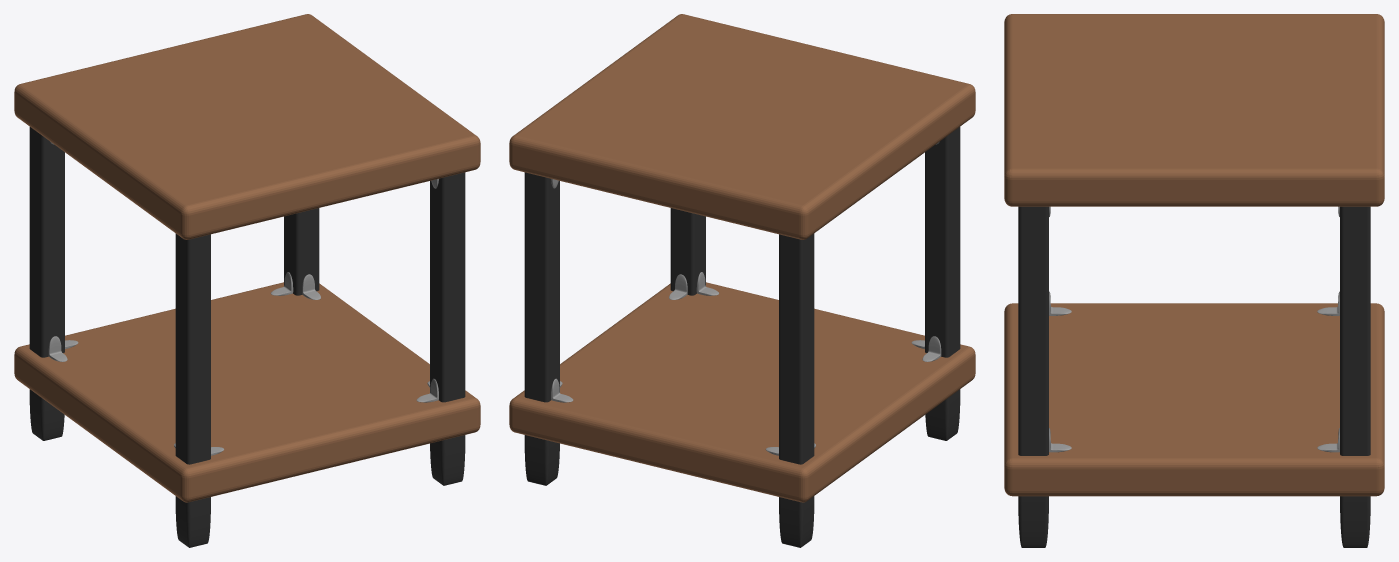
The model's file is compressed_BedsideTable.glb.
3 views of the same model, side by side, from view 1: azimuth 30°, elevation 25°; view 2: azimuth 150°, elevation 25°; view 3: azimuth 270°, elevation 25° (orthographic). The views are drawn at different scales.
Parts seen in each view (by area): view 1: Cube.001, Cube.003, Cube.002, Cube.006, Cube.004; view 2: Cube.001, Cube.003, Cube.002, Cube.006, Cube.004; view 3: Cube.001, Cube.003, Cube.002, Cube.004.
Part boxes in pixels (x1=…): Cube.001: x1=14, y1=14, x2=480, y2=239; Cube.003: x1=14, y1=282, x2=480, y2=502; Cube.002: x1=29, y1=127, x2=465, y2=547; Cube.006: x1=65, y1=272, x2=438, y2=455; Cube.004: x1=48, y1=274, x2=429, y2=448; Cube.001: x1=509, y1=14, x2=975, y2=239; Cube.003: x1=509, y1=282, x2=975, y2=502; Cube.002: x1=524, y1=127, x2=960, y2=547; Cube.006: x1=551, y1=272, x2=924, y2=455; Cube.004: x1=560, y1=274, x2=941, y2=448; Cube.001: x1=1004, y1=14, x2=1384, y2=206; Cube.003: x1=1004, y1=303, x2=1384, y2=496; Cube.002: x1=1018, y1=206, x2=1370, y2=547; Cube.004: x1=1049, y1=291, x2=1339, y2=452.
Size of the model in its own units: 0.4572 by 0.508 by 0.4572.
